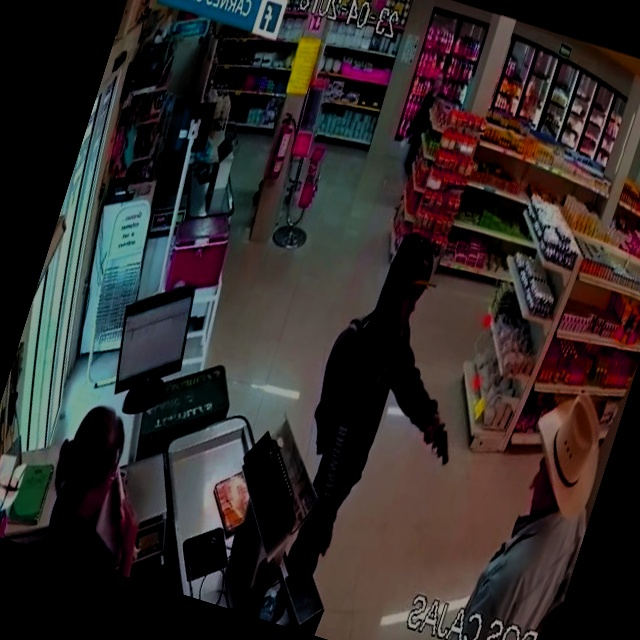gun: (419, 410, 465, 482)
